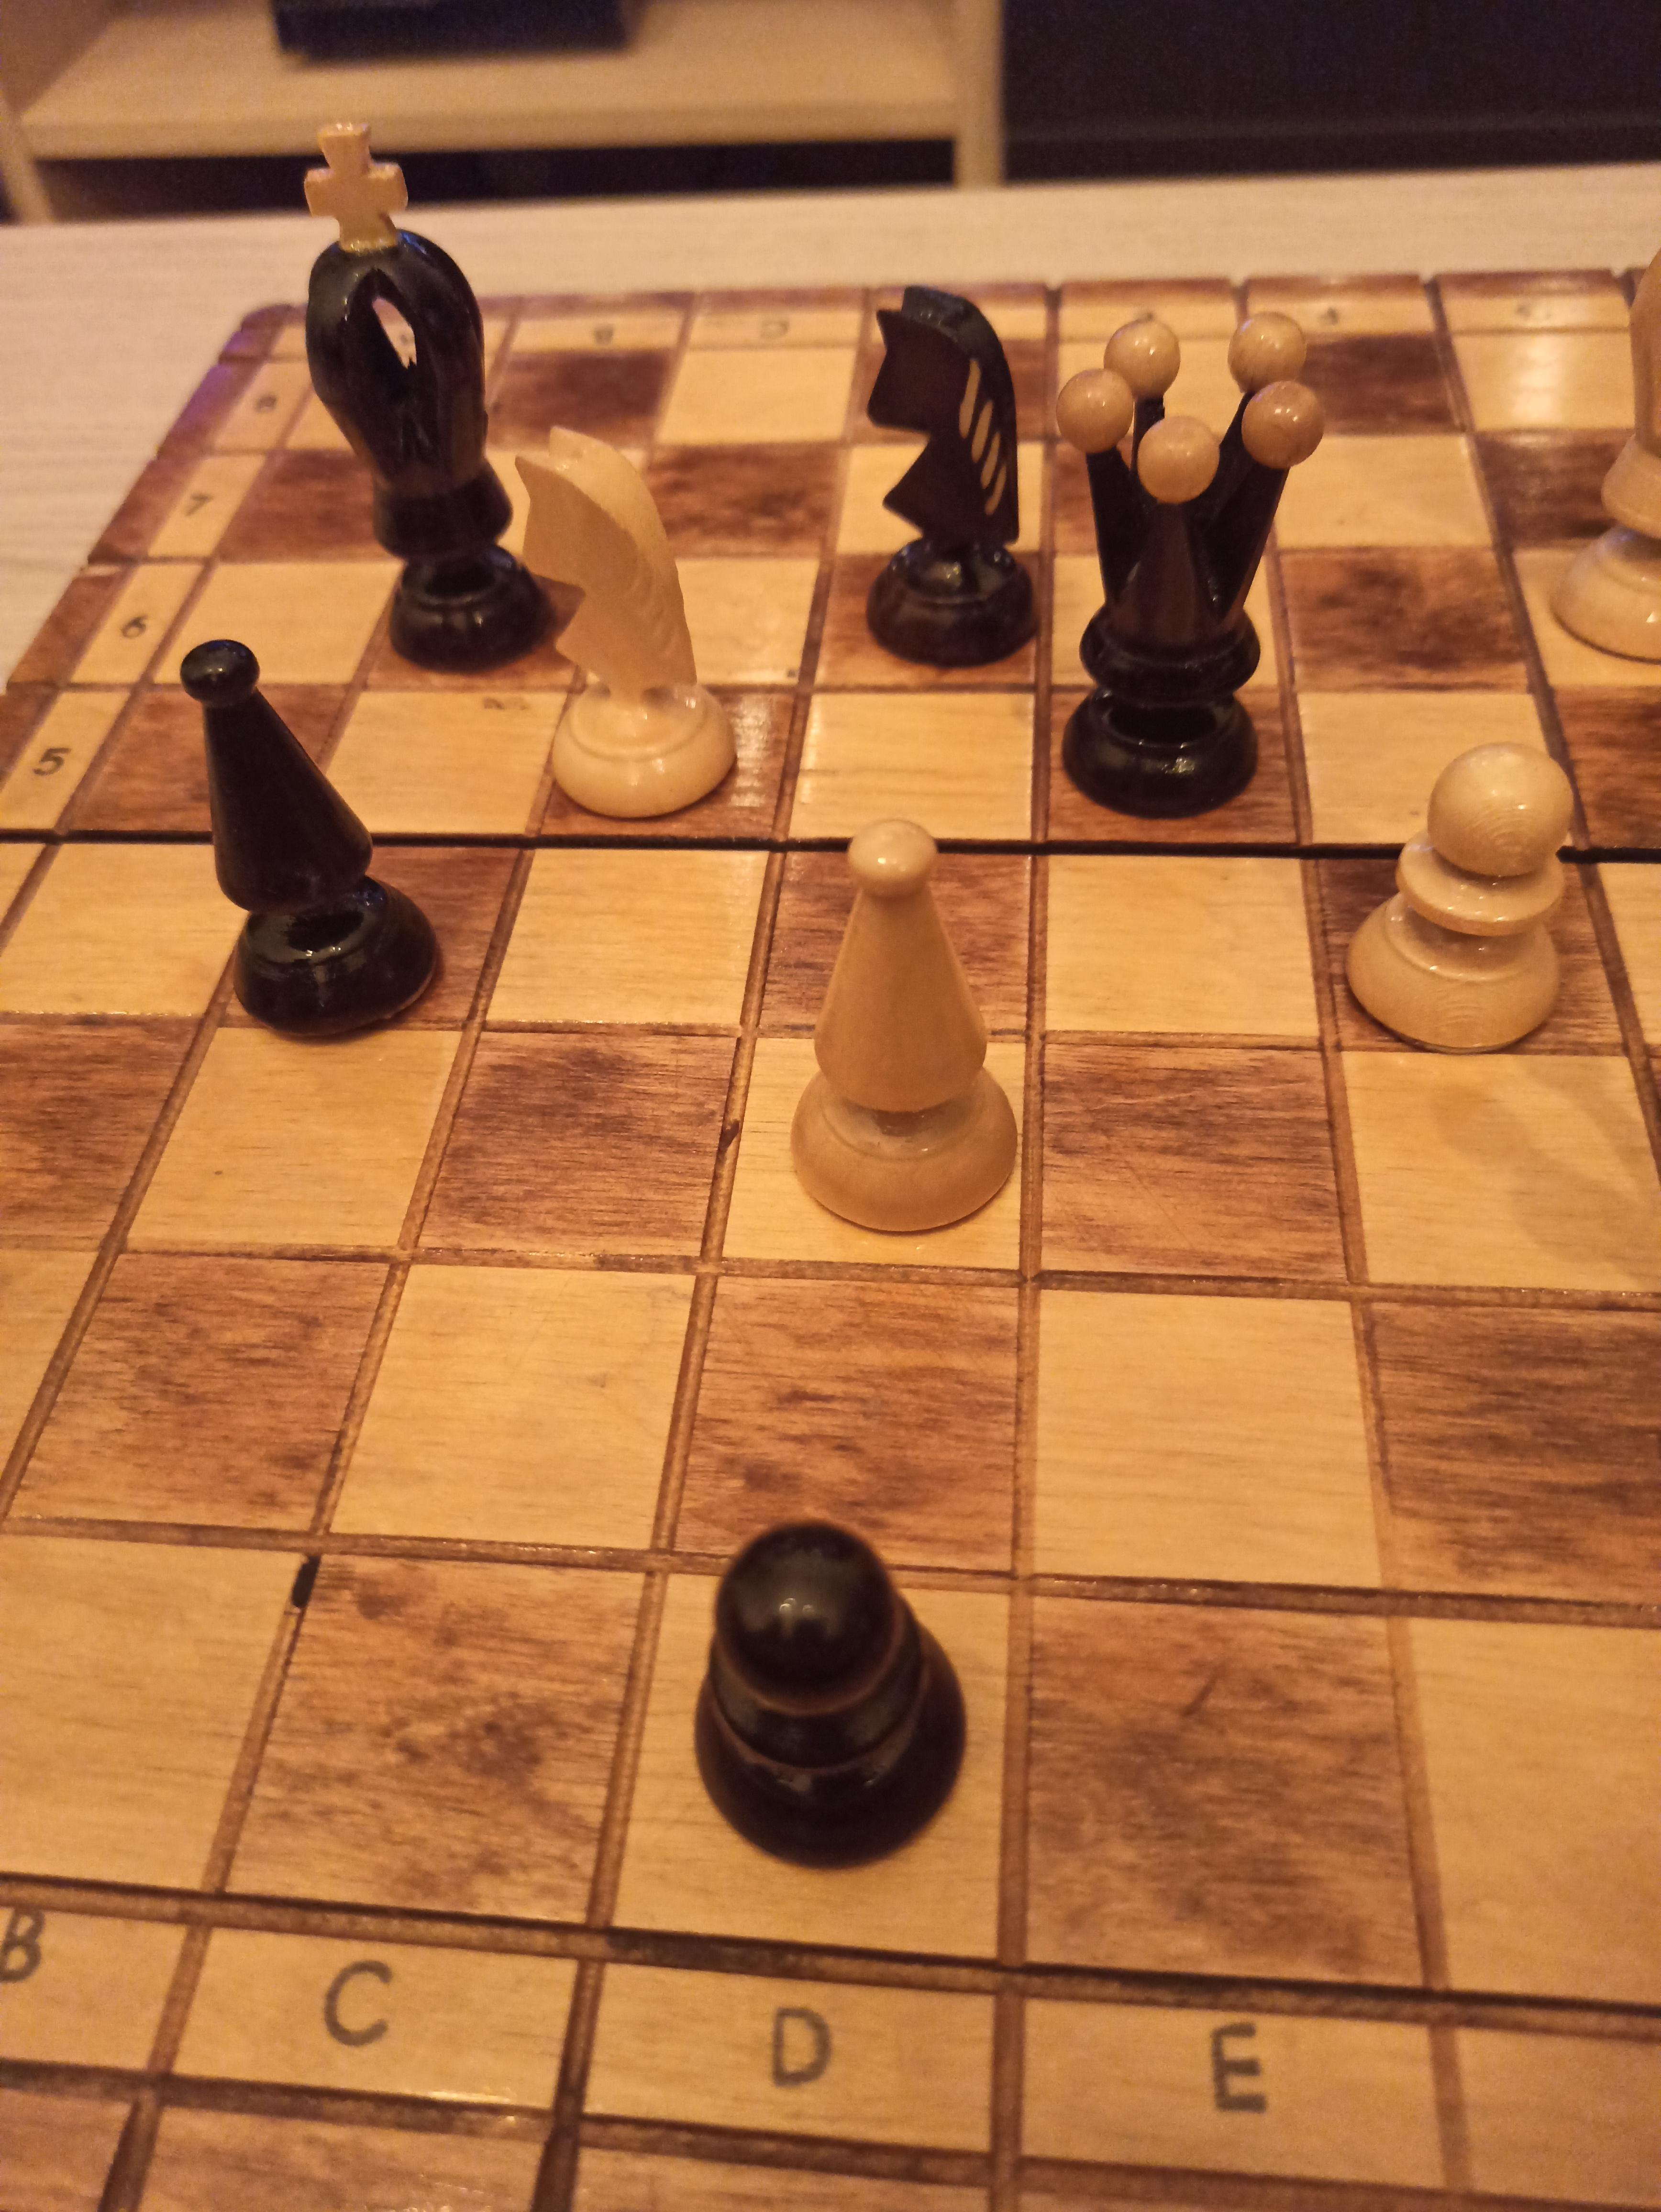bbishop: (174, 632, 447, 1040)
bking: (286, 110, 562, 680)
bknight: (846, 277, 1050, 682)
bpawn: (693, 1523, 968, 1874)
bqueen: (1054, 317, 1335, 820)
wbishop: (790, 813, 1012, 1237)
wknight: (504, 427, 742, 834)
wpawn: (1342, 745, 1584, 1054)
